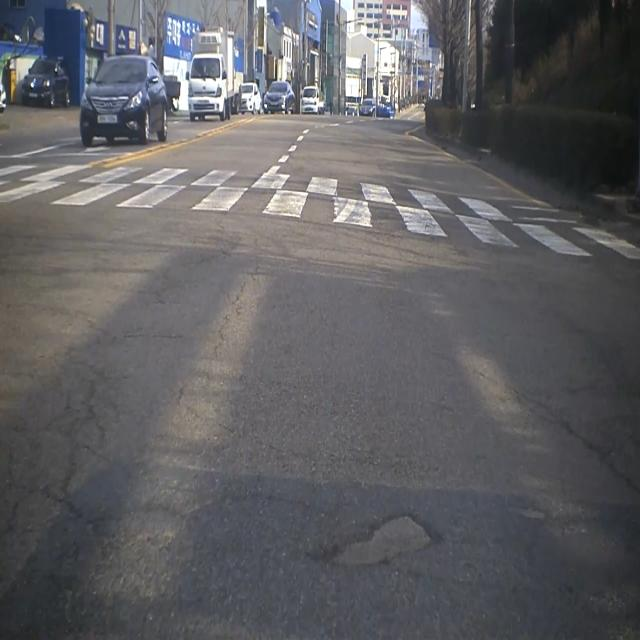Pothole: (305, 504, 441, 581)
